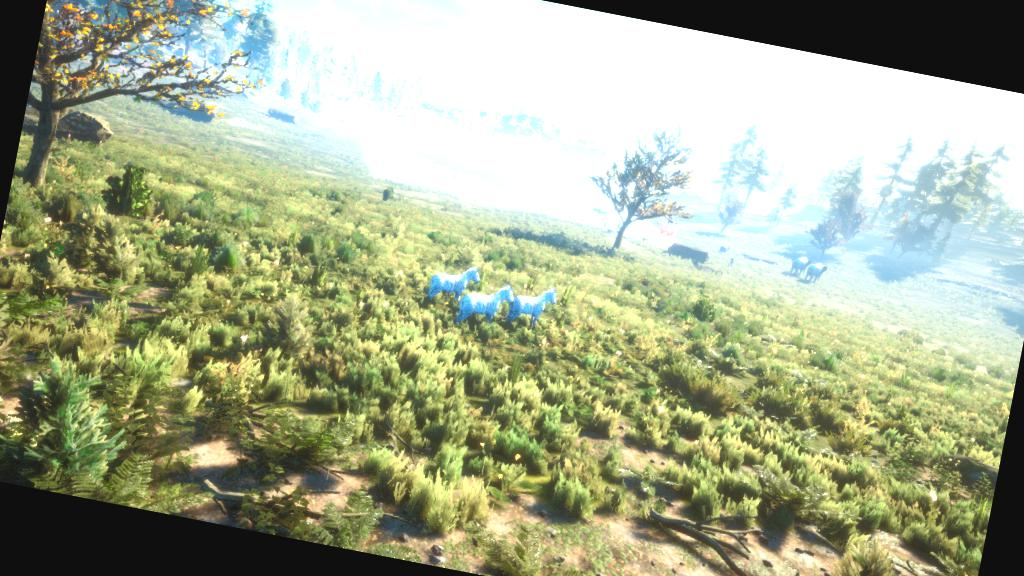zebra: (448, 274, 518, 338), (416, 248, 488, 308), (504, 280, 566, 342)
